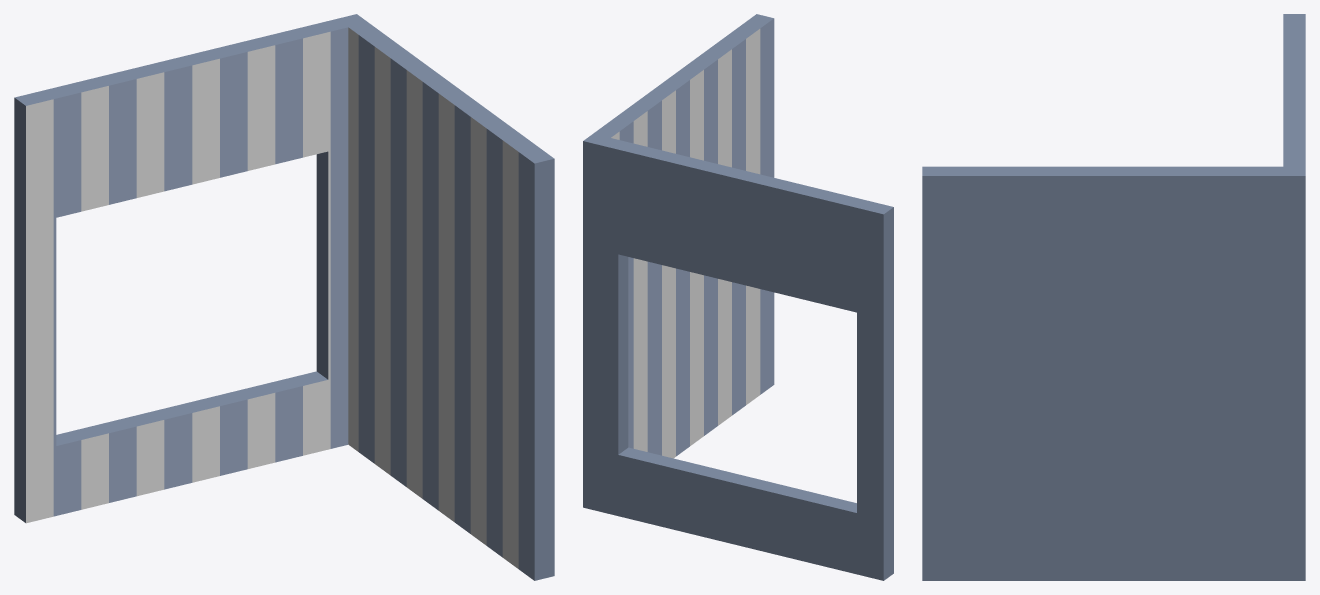
File: Wall3_C8_13.fbx
3 views of the same model, side by side, from view 1: azimuth 30°, elevation 25°; view 2: azimuth 150°, elevation 25°; view 3: azimuth 270°, elevation 25° (orthographic). The views are drawn at different scales.
Parts seen in each view (by area): view 1: Wall3_C8_13; view 2: Wall3_C8_13; view 3: Wall3_C8_13.
Part boxes in pixels (x1,y1,x2,y2): Wall3_C8_13: (14,14,554,580); Wall3_C8_13: (583,14,893,580); Wall3_C8_13: (922,14,1305,580).
Bounding box in the file's own units: 258 × 300 × 258.
